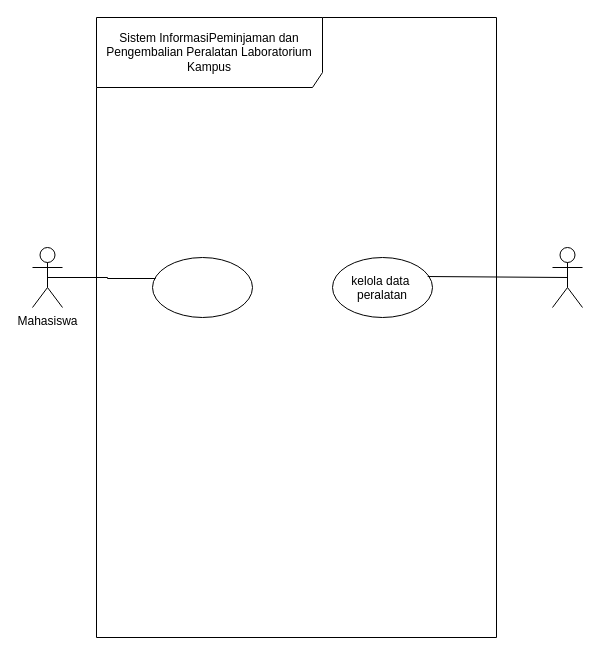
Image size: 608x655. Some labels were removed from this diagram. Each missing label, with the centre of its shape:
"lihat ketersediaan peralatan" belongs at point (202, 287).
"Petugas Laboran" belongs at point (567, 277).
